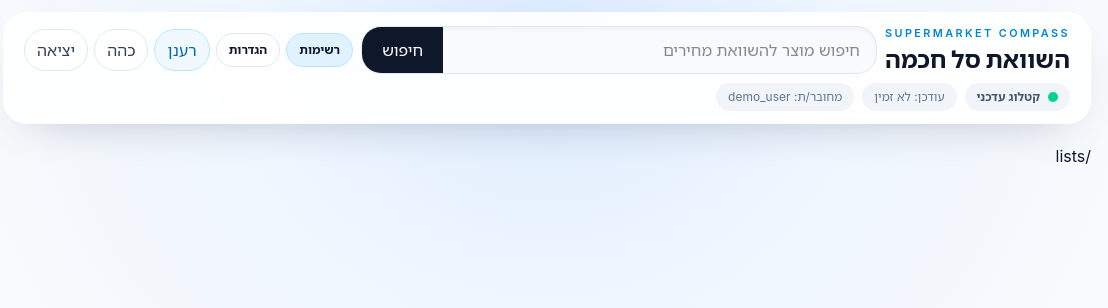
Test: AppShell › submits global search from any authenticated page
Step 1. Type "חלב" into the search field with placeholder "חיפוש מוצר להשוואת מחירים" → coordinates (660, 50), box [443,27,876,73]
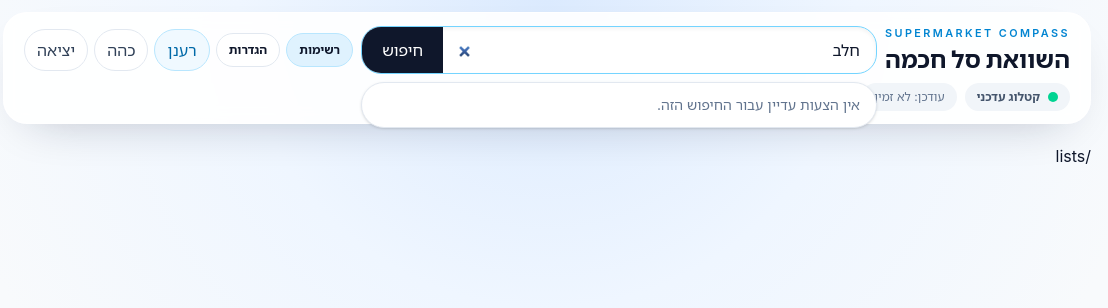
Step 2. Click the button "חיפוש" → coordinates (403, 50), box [362,27,443,73]
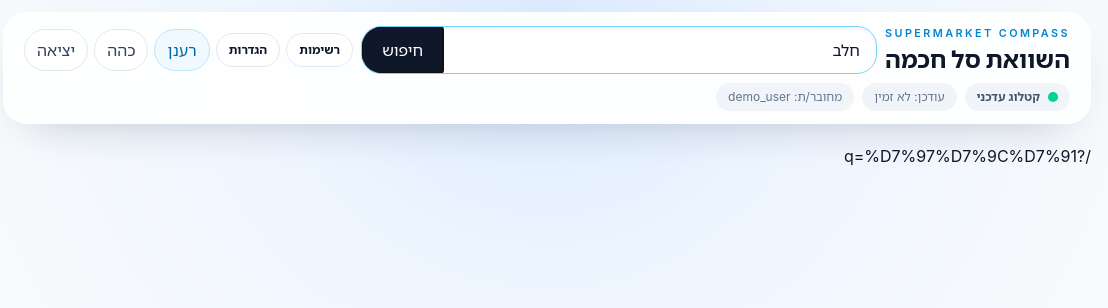
Result: the text with test id "location" reads "/?q=%D7%97%D7%9C%D7%91" at [844,146,1091,166]
